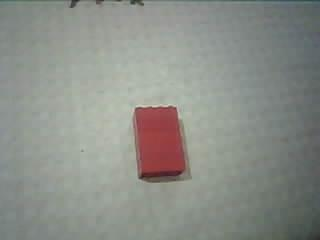lego: (130, 105, 186, 179)
